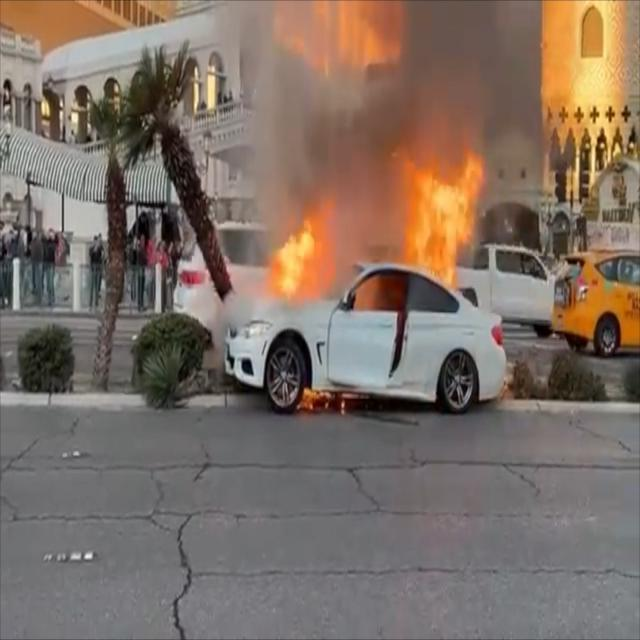fire: (267, 138, 487, 312)
